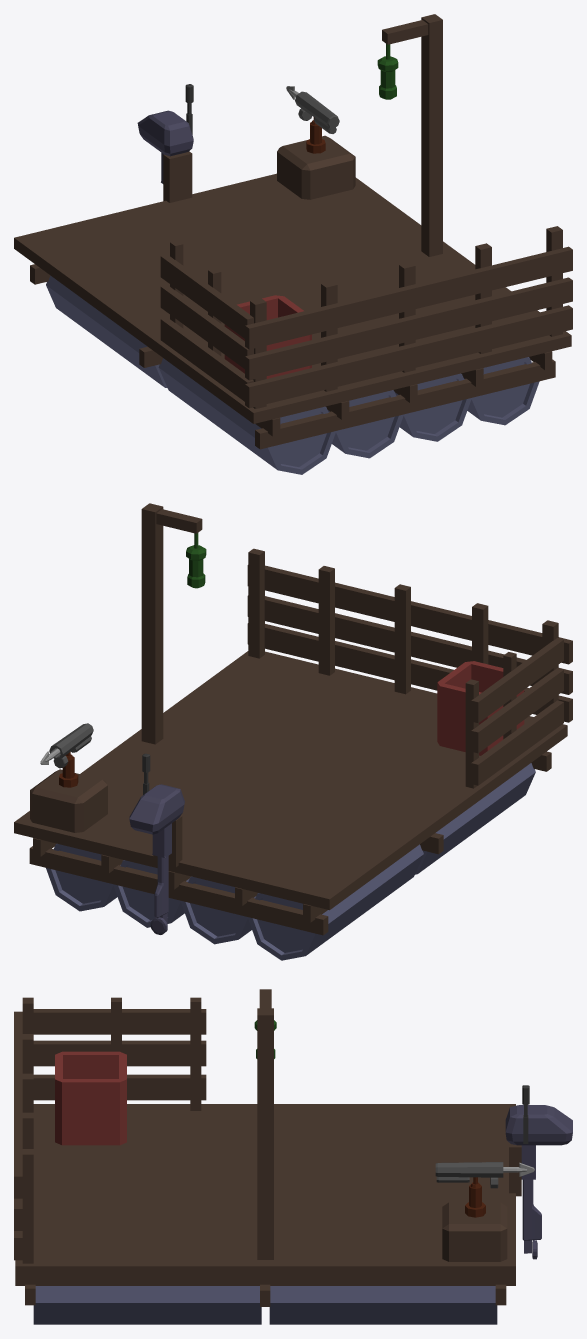
File: Raft.fbx
3 views of the same model, one above another, from view 1: azimuth 30°, elevation 25°; view 2: azimuth 150°, elevation 25°; view 3: azimuth 270°, elevation 25° (orthographic). The views are drawn at different scales.
Parts seen in each view (by area): view 1: Barrels, MotorMain, Box, Harppon, Lamp; view 2: Barrels, MotorMain, Box, Harppon, Lamp; view 3: Barrels, Box, MotorMain, Harppon.
Boxes of the visible parts, x1,y1,x2,y2 form: Barrels: (14,14,572,474); MotorMain: (137,110,193,183); Box: (224,295,311,378); Harppon: (295,91,339,133); Lamp: (377,44,398,99); Barrels: (14,503,572,960); MotorMain: (129,784,184,934); Box: (437,661,524,755); Harppon: (49,723,93,768); Lamp: (186,533,206,588); Barrels: (14,989,521,1324); Box: (55,1051,126,1145); MotorMain: (505,1105,572,1259); Harppon: (435,1162,503,1188).
Size of the model in its own units: 502 by 469 by 719.
